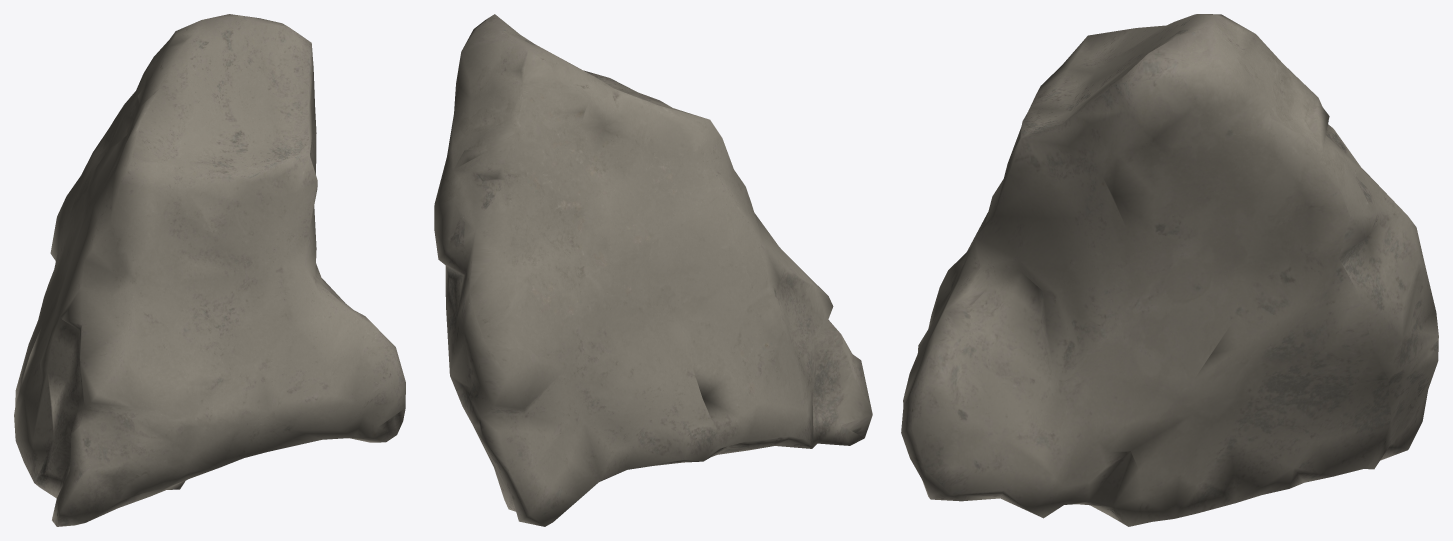
The model's file is moon_rock_05_hi.glb.
The picture shows the model from 3 angles, left to right: view 1: azimuth 30°, elevation 25°; view 2: azimuth 150°, elevation 25°; view 3: azimuth 270°, elevation 25°; orthographic projection. The views are drawn at different scales.
Parts seen in each view (by area): view 1: moon_rock_05_hi; view 2: moon_rock_05_hi; view 3: moon_rock_05_hi.
Boxes of the visible parts, x1,y1,x2,y2 form: moon_rock_05_hi: (14, 14, 405, 526); moon_rock_05_hi: (434, 14, 872, 526); moon_rock_05_hi: (901, 14, 1438, 526).
Size of the model in its own units: 0.8807 by 0.9969 by 1.
Materials: 1 (1 with a texture image).
